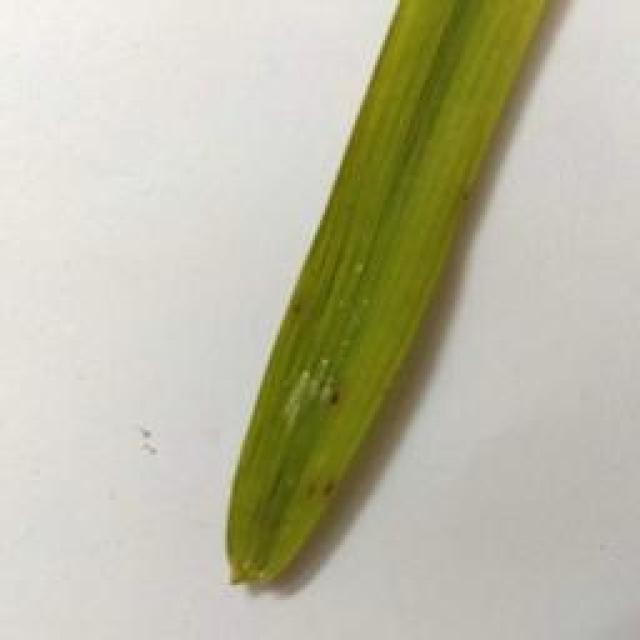Brown_Spot: (298, 474, 339, 504), (321, 376, 349, 413)
